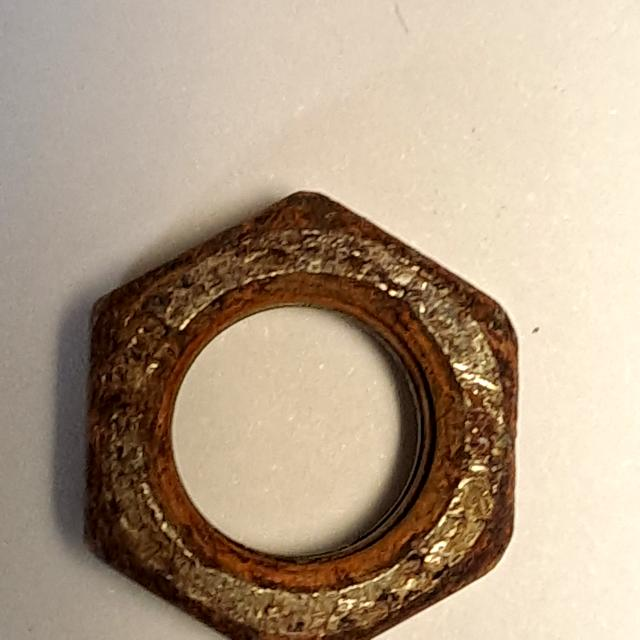Rust: (70, 160, 528, 640)
